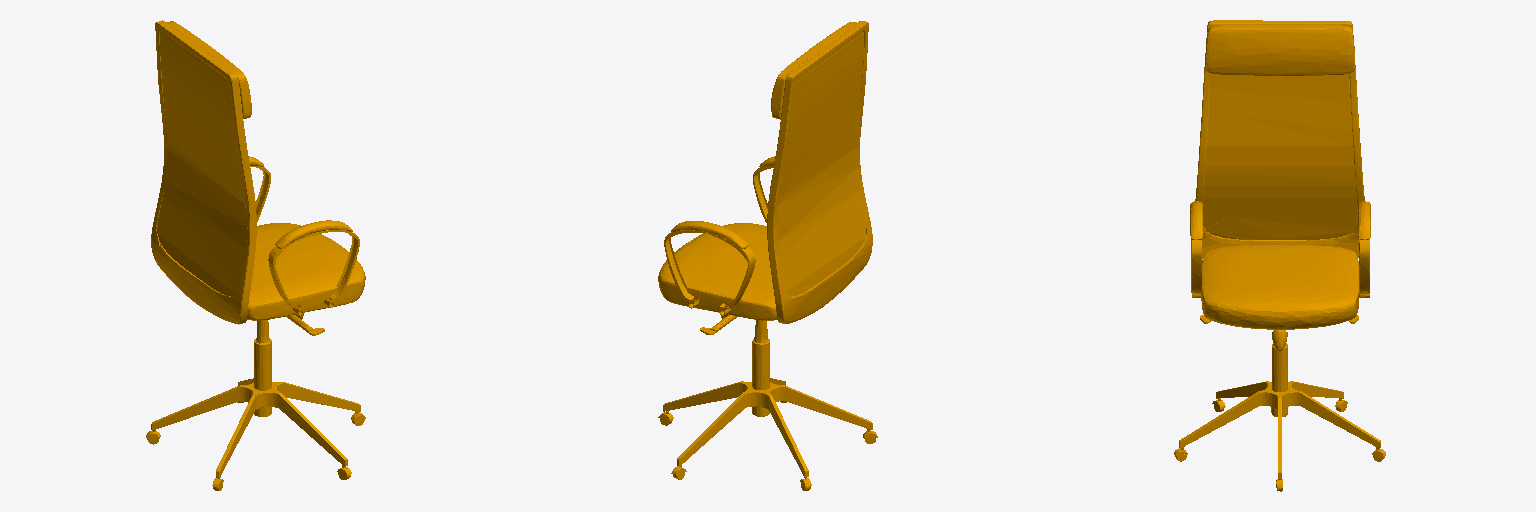
URDF robot description (y3YzcKyO):
<?xml version='1.0' encoding='us-ascii'?>
<robot name="y3YzcKyO">
   <link name="base_link">
      <visual>
         <origin xyz="0.0 0.0 0.0" />
         <geometry>
            <mesh filename="shape\visual\swivel_chair-fieiyo-0.obj" />
         </geometry>
      </visual>
      <collision>
         <origin xyz="0.0 0.0 0.0" />
         <geometry>
            <mesh filename="shape\collision\swivel_chair-fieiyo-0.obj" />
         </geometry>
      </collision>
   </link>
</robot>

--- Render facts (derived) ---
3 views of the same robot in one strip: view 1: azimuth 30°, elevation 25°; view 2: azimuth 150°, elevation 25°; view 3: azimuth 270°, elevation 25° (orthographic).
Model y3YzcKyO with 1 links and 0 joints (none), rooted at base_link, posed every joint at zero.
Visible links, largest first — view 1: base_link; view 2: base_link; view 3: base_link.
Boxes of the visible links, x1,y1,x2,y2 form: base_link: [146, 20, 365, 490]; base_link: [658, 21, 877, 490]; base_link: [1174, 20, 1385, 491].
Bounding box of the posed robot: 0.6038 × 0.6347 × 1.3 m (x, y, z).
1 mesh visuals loaded from 1 distinct referenced files (1 OBJ).
